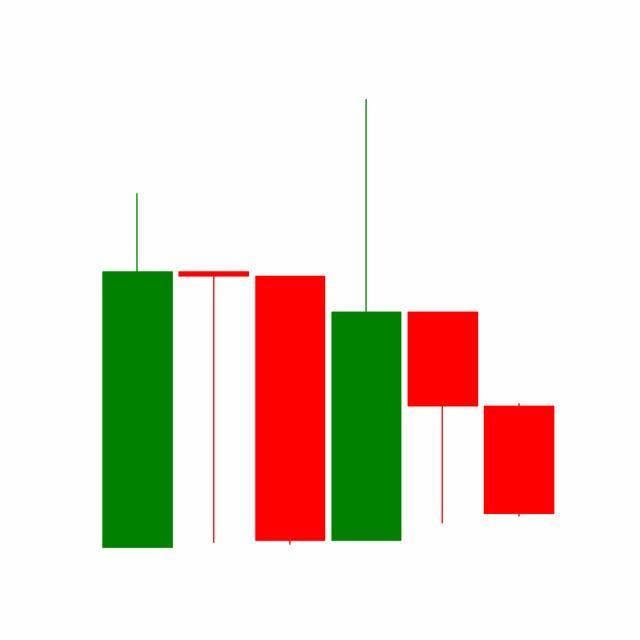Hammer: (404, 310, 482, 527)
